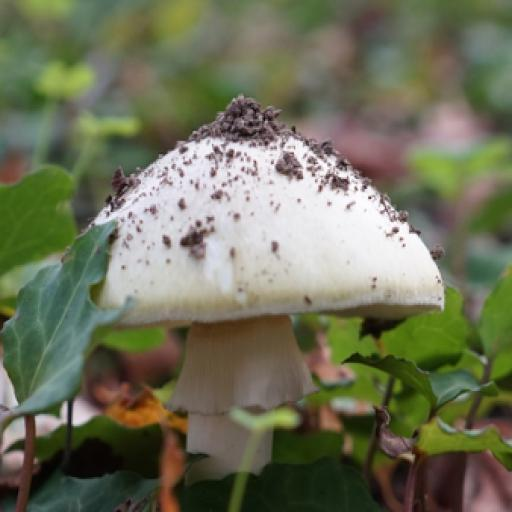mushroom: (31, 54, 474, 493)
